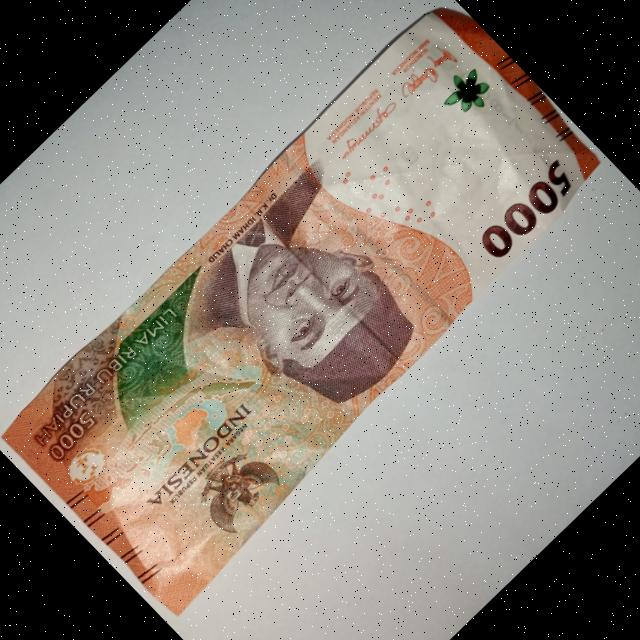5K: (0, 0, 625, 620)
